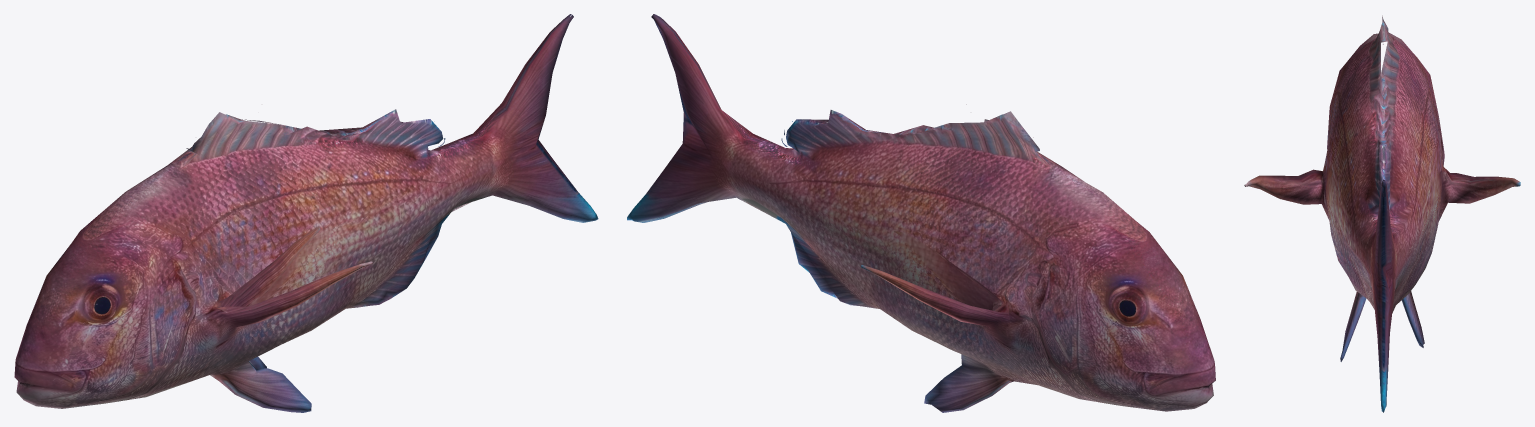
File: chamdom.glb
The picture shows the model from 3 angles, left to right: view 1: azimuth 30°, elevation 25°; view 2: azimuth 150°, elevation 25°; view 3: azimuth 270°, elevation 25°; orthographic projection. The views are drawn at different scales.
Parts seen in each view (by area): view 1: tripo_node_2096e30f; view 2: tripo_node_2096e30f; view 3: tripo_node_2096e30f.
Boxes of the visible parts, x1=… form: tripo_node_2096e30f: x1=14, y1=14, x2=598, y2=412; tripo_node_2096e30f: x1=627, y1=14, x2=1215, y2=412; tripo_node_2096e30f: x1=1244, y1=15, x2=1520, y2=412.
Bounding box in the file's own units: 97.56 × 50.1 × 38.7.
1 material, 1 textured.
